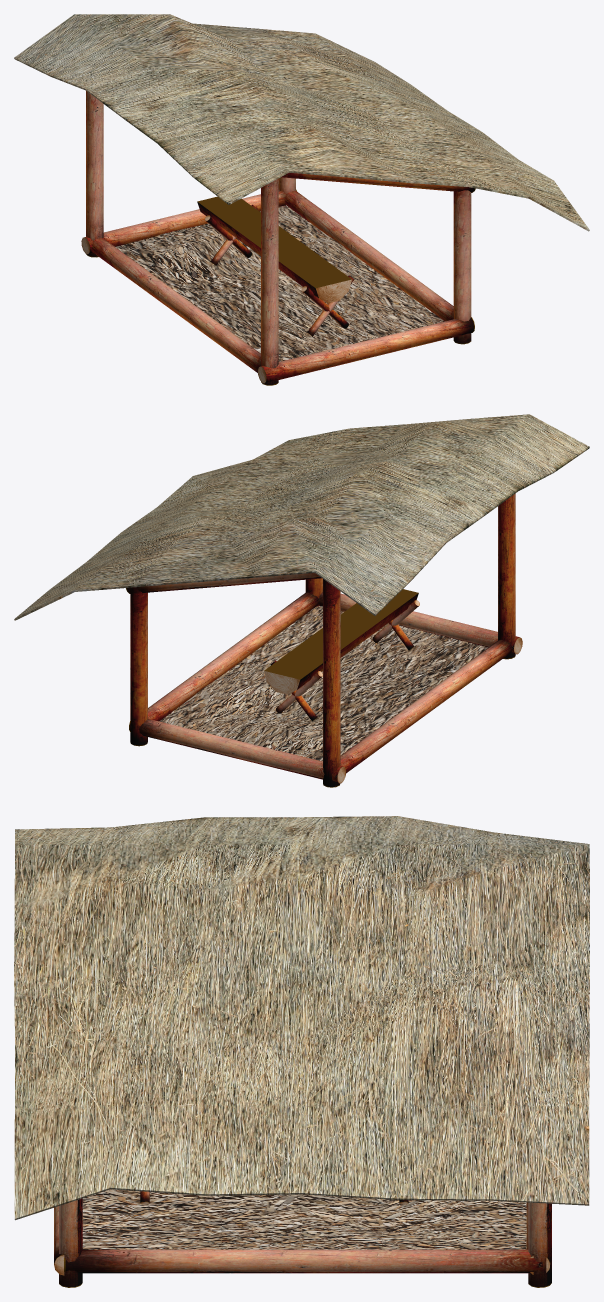
File: sawmill_ver_002.fbx
The picture shows the model from 3 angles, top to bottom: view 1: azimuth 30°, elevation 25°; view 2: azimuth 150°, elevation 25°; view 3: azimuth 270°, elevation 25°; orthographic projection. The views are drawn at different scales.
Visible parts, largest first — view 1: pPlane2, pPlane1, pCylinder30, pCylinder35, pCylinder19, pCylinder21, pCylinder25, pCylinder24, pCylinder23, pCylinder36, pCylinder27; view 2: pPlane2, pPlane1, pCylinder30, pCylinder19, pCylinder36, pCylinder21, pCylinder23, pCylinder22, pCylinder25, pCylinder35, pCylinder26; view 3: pPlane2, pPlane1, pCylinder21, pCylinder22, pCylinder24.
Boxes of the visible parts, x1,y1,x2,y2 form: pPlane2: (14,14,589,231); pPlane1: (115,205,444,361); pCylinder30: (197,196,351,303); pCylinder35: (258,317,474,383); pCylinder19: (92,238,260,372); pCylinder21: (285,190,453,321); pCylinder25: (261,178,278,385); pCylinder24: (453,190,471,344); pCylinder23: (86,91,103,257); pCylinder36: (81,189,296,254); pCylinder27: (281,173,475,192); pPlane2: (14,414,589,620); pPlane1: (159,606,487,761); pCylinder30: (264,589,418,694); pCylinder19: (340,640,511,773); pCylinder36: (129,719,346,783); pCylinder21: (148,592,318,721); pCylinder23: (323,579,340,787); pCylinder22: (130,587,147,746); pCylinder25: (498,493,515,659); pCylinder35: (318,591,522,654); pCylinder26: (126,573,321,593); pPlane2: (14,816,589,1220); pPlane1: (82,1189,526,1249); pCylinder21: (64,1249,542,1273); pCylinder22: (528,1202,551,1287); pCylinder24: (59,1198,82,1287).
Size of the model in its own units: 140 by 90.13 by 144.
